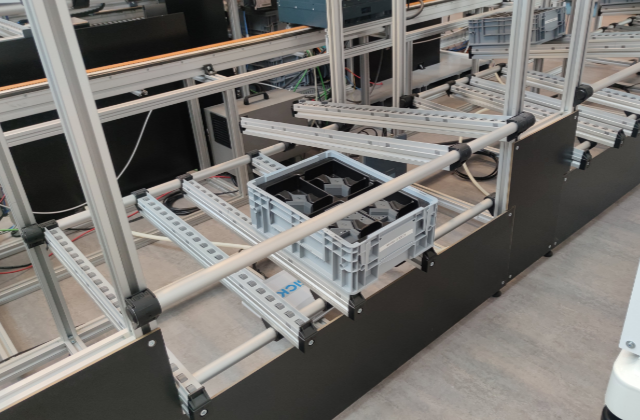Box: (245, 148, 438, 296), (466, 5, 567, 51)
